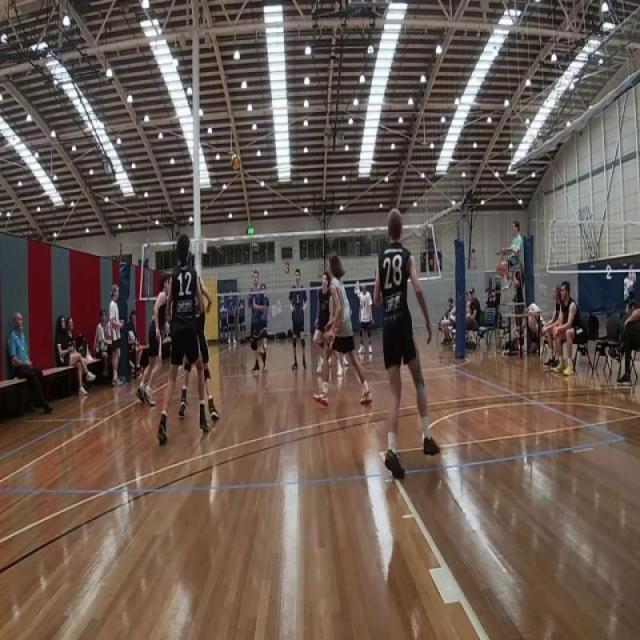volleyball: (231, 152, 241, 171)
